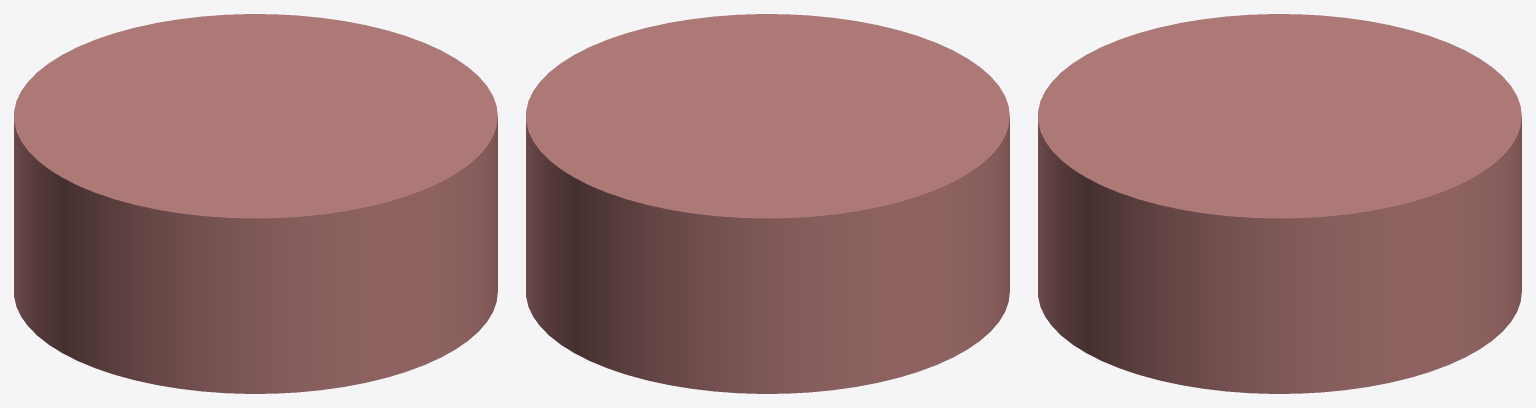
File: step_53.glb
The picture shows the model from 3 angles, left to right: view 1: azimuth 30°, elevation 25°; view 2: azimuth 150°, elevation 25°; view 3: azimuth 270°, elevation 25°; orthographic projection.
Parts seen in each view (by area): view 1: part__4" needle valve handwheel; view 2: part__4" needle valve handwheel; view 3: part__4" needle valve handwheel.
Part boxes in pixels (x1,y1,x2,y2): part__4" needle valve handwheel: (14,14,497,393); part__4" needle valve handwheel: (526,14,1009,393); part__4" needle valve handwheel: (1038,14,1521,393).
Bounding box in the file's own units: 22.85 × 9.14 × 22.85.
